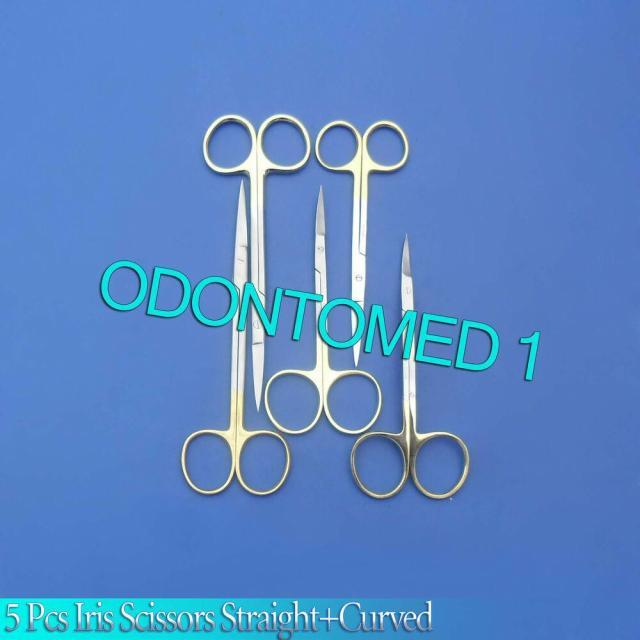Iris: (177, 176, 293, 502), (348, 227, 472, 506), (201, 109, 314, 413), (262, 182, 386, 440), (313, 117, 413, 369)
